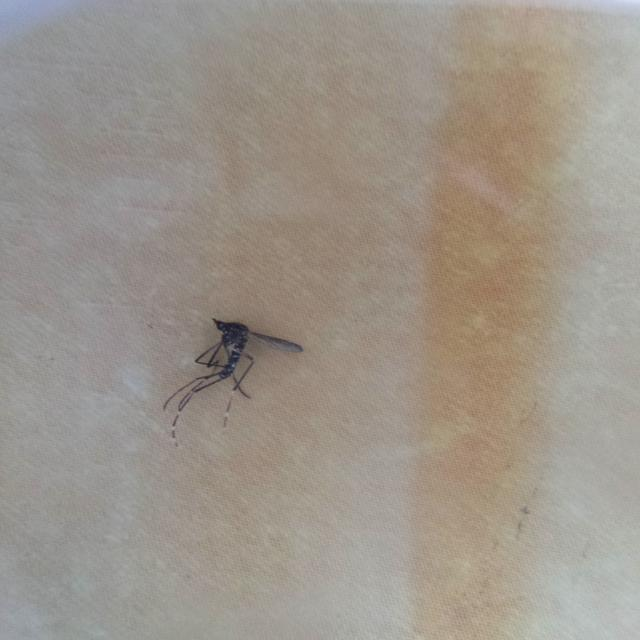albopictus: (160, 311, 307, 440)
